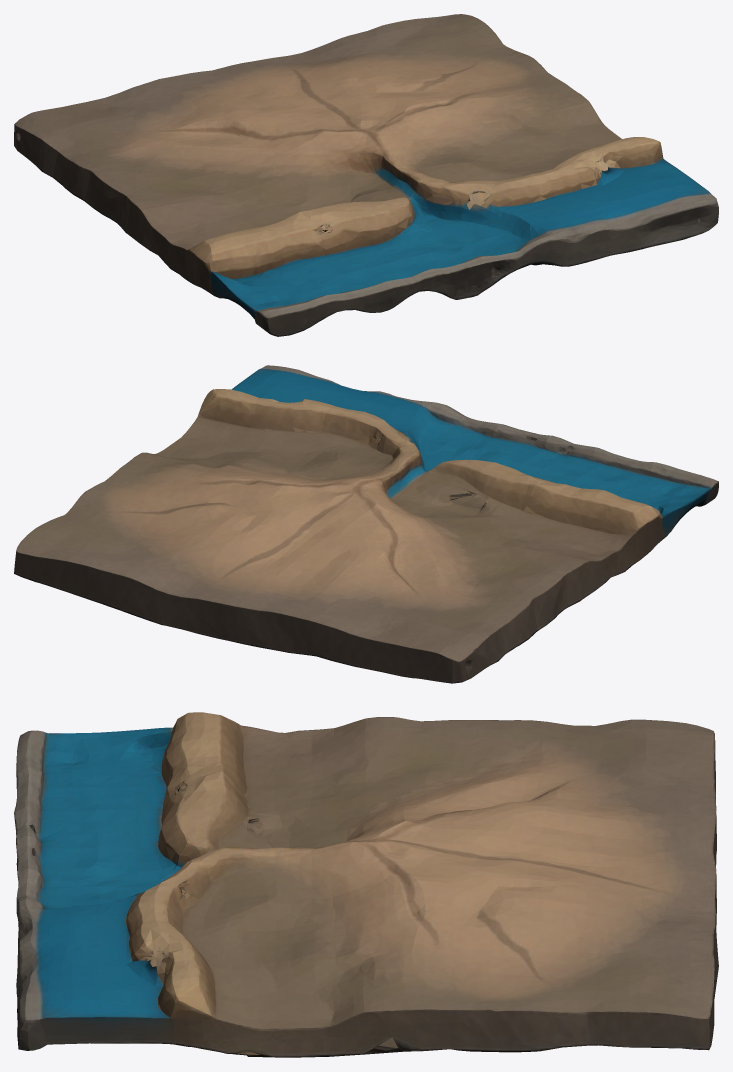
3 views of the same model, one above another, from view 1: azimuth 30°, elevation 25°; view 2: azimuth 150°, elevation 25°; view 3: azimuth 270°, elevation 25° (orthographic). The views are drawn at different scales.
Parts seen in each view (by area): view 1: world; view 2: world; view 3: world.
Boxes of the visible parts, box(x1,y1,x2,y2) form: world: box(14, 14, 718, 336); world: box(14, 365, 718, 683); world: box(14, 712, 718, 1057).
Size of the model in its own units: 1 by 0.1358 by 0.9966.
1 material, 1 textured.
